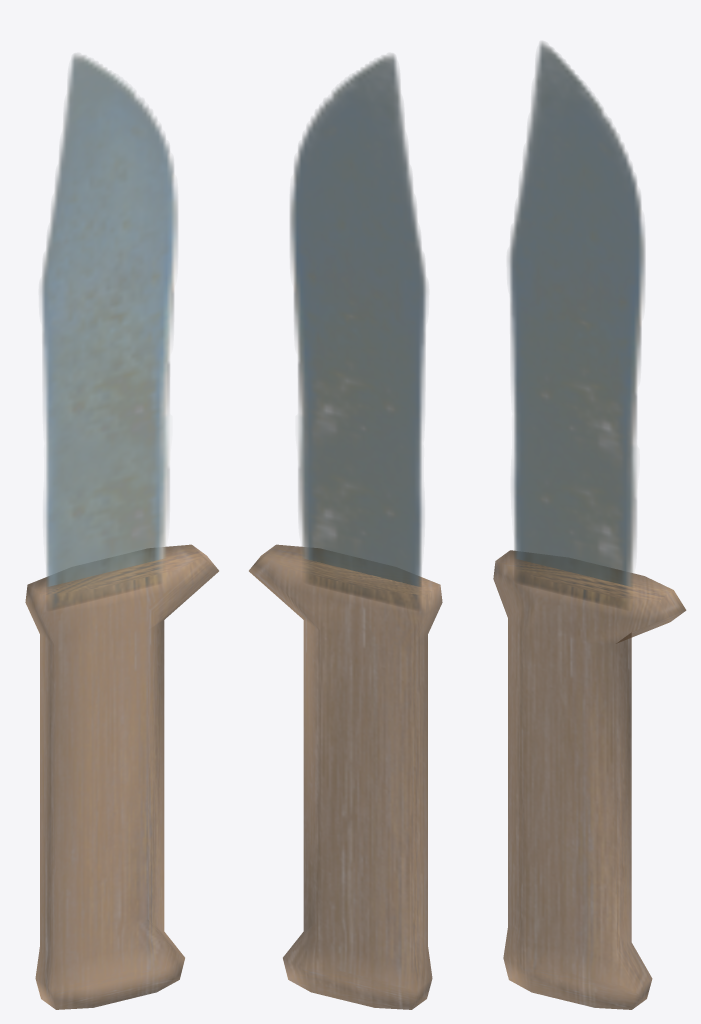
Rendered from knife.glb.
3 renders of one model, left to right at view 1: azimuth 30°, elevation 25°; view 2: azimuth 150°, elevation 25°; view 3: azimuth 330°, elevation 25°, orthographic.
Visible parts, largest first — view 1: knife; view 2: knife; view 3: knife.
Boxes of the visible parts, <box> form: knife: <box>25,54,218,1009</box>; knife: <box>249,54,442,1009</box>; knife: <box>493,42,686,1009</box>.
Bounding box in the file's own units: 0.0953 × 0.4423 × 0.0266.
1 material, 1 textured.
